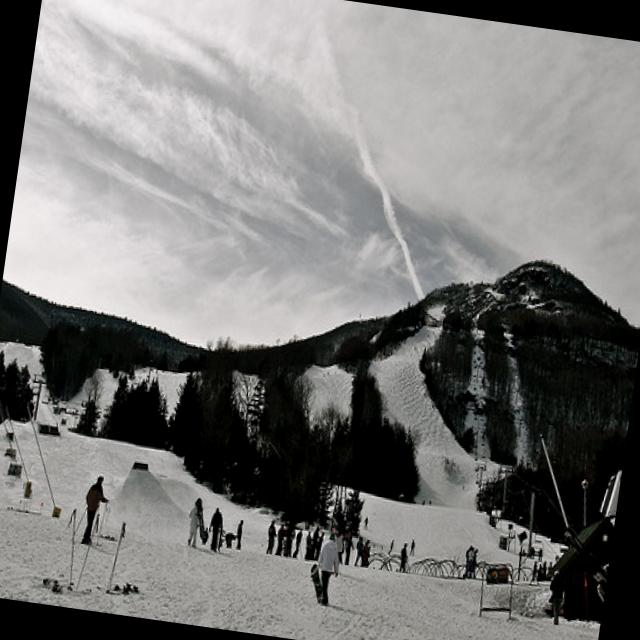Vehicle: (596, 456, 624, 522)
